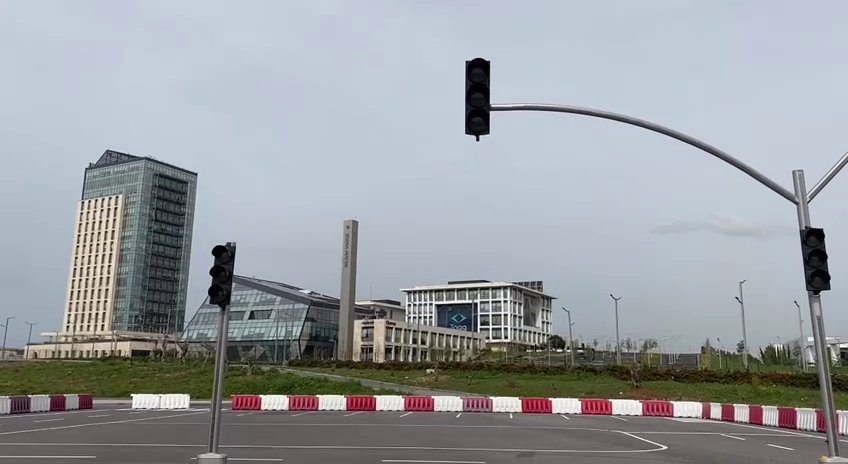trafficLight: (459, 53, 494, 145), (797, 225, 836, 295), (206, 239, 240, 311)
